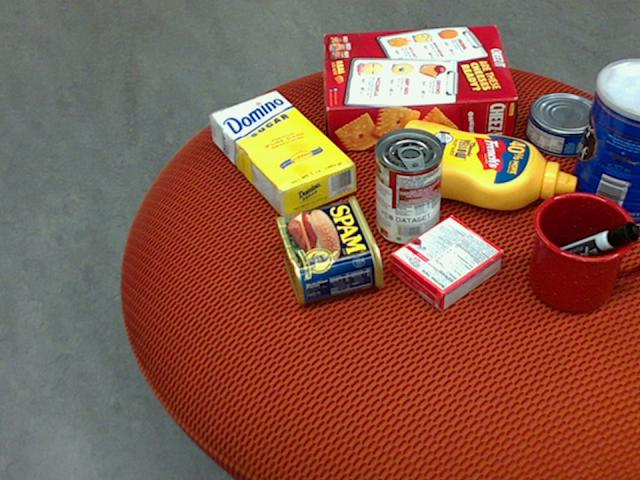cracker_box: (323, 24, 516, 151)
gelatin_box: (388, 217, 503, 312)
large_marker: (534, 219, 639, 272)
master_chef_can: (567, 58, 639, 226)
mug: (528, 191, 639, 312)
mustard_bottle: (388, 119, 575, 210)
potted_meat_can: (274, 194, 384, 304)
sugar_box: (208, 88, 356, 220)
tomato_soup_can: (373, 126, 443, 244)
tuna_fish_can: (523, 91, 601, 156)
